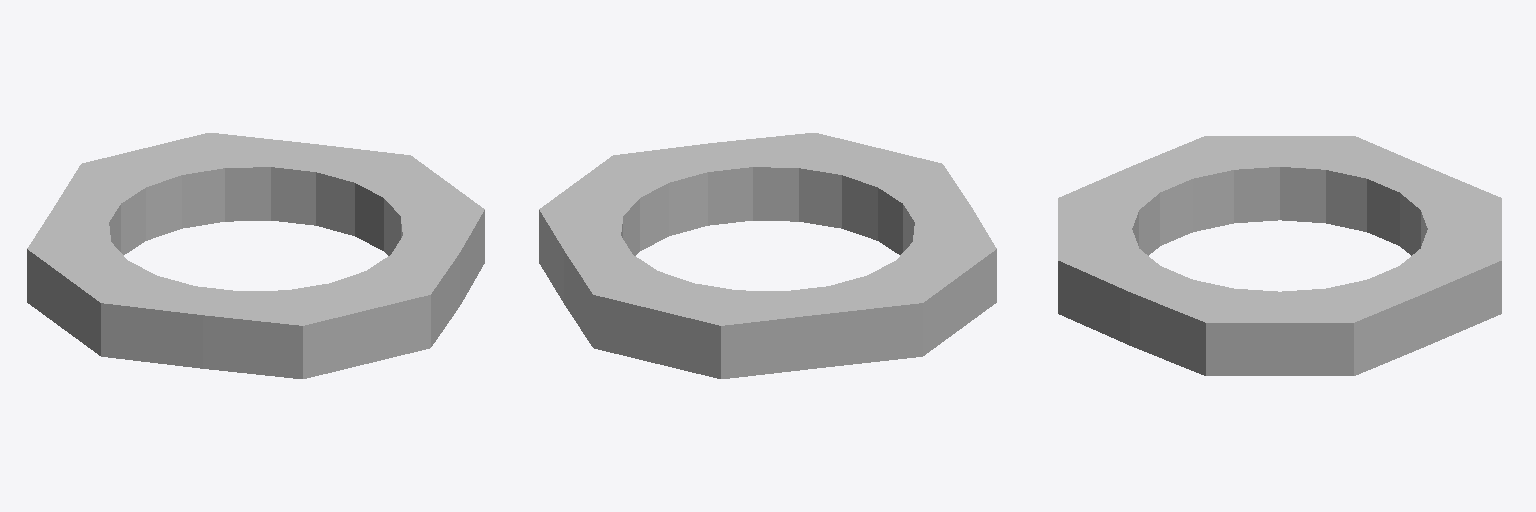
File: shield_2_corrected_uvs.obj
3 views of the same model, side by side, from view 1: azimuth 30°, elevation 25°; view 2: azimuth 150°, elevation 25°; view 3: azimuth 270°, elevation 25° (orthographic).
Parts seen in each view (by area): view 1: pCube2; view 2: pCube2; view 3: pCube2.
Part boxes in pixels (bbox=[...]): pCube2: bbox=[27, 133, 484, 378]; pCube2: bbox=[539, 133, 996, 378]; pCube2: bbox=[1058, 136, 1501, 375].
Bounding box in the file's own units: 3 × 0.4 × 3.